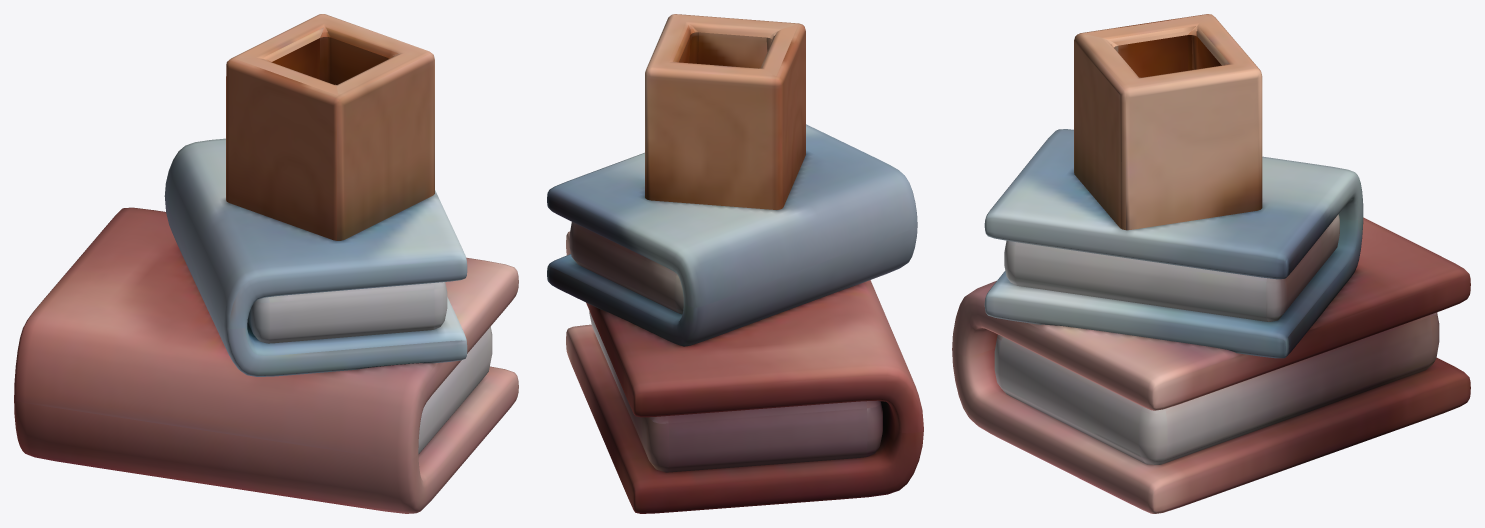
File: books.glb
3 views of the same model, side by side, from view 1: azimuth 30°, elevation 25°; view 2: azimuth 150°, elevation 25°; view 3: azimuth 270°, elevation 25° (orthographic). The views are drawn at different scales.
Parts seen in each view (by area): view 1: Book_1_Fourth, Book_2_Fourth, Pencil_Holder_Fourth; view 2: Book_1_Fourth, Book_2_Fourth, Pencil_Holder_Fourth; view 3: Book_1_Fourth, Book_2_Fourth, Pencil_Holder_Fourth.
Part boxes in pixels (box(x1,y1,x2,y2)): Book_1_Fourth: box(14, 207, 518, 513); Book_2_Fourth: box(164, 138, 467, 376); Pencil_Holder_Fourth: box(226, 14, 434, 240); Book_1_Fourth: box(566, 231, 923, 513); Book_2_Fourth: box(547, 124, 917, 346); Pencil_Holder_Fourth: box(645, 14, 805, 209); Book_1_Fourth: box(952, 217, 1470, 513); Book_2_Fourth: box(984, 129, 1363, 358); Pencil_Holder_Fourth: box(1074, 14, 1262, 230).
Size of the model in its own units: 0.8941 by 0.7448 by 0.9154.
Materials: 1 (1 with a texture image).
